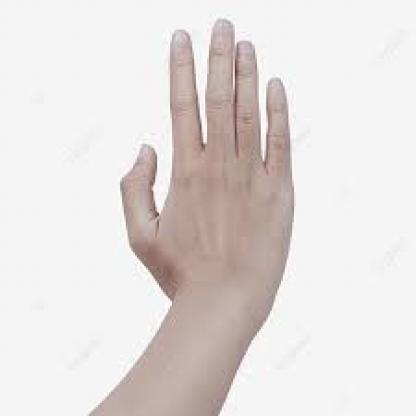ok: (119, 16, 296, 326)
